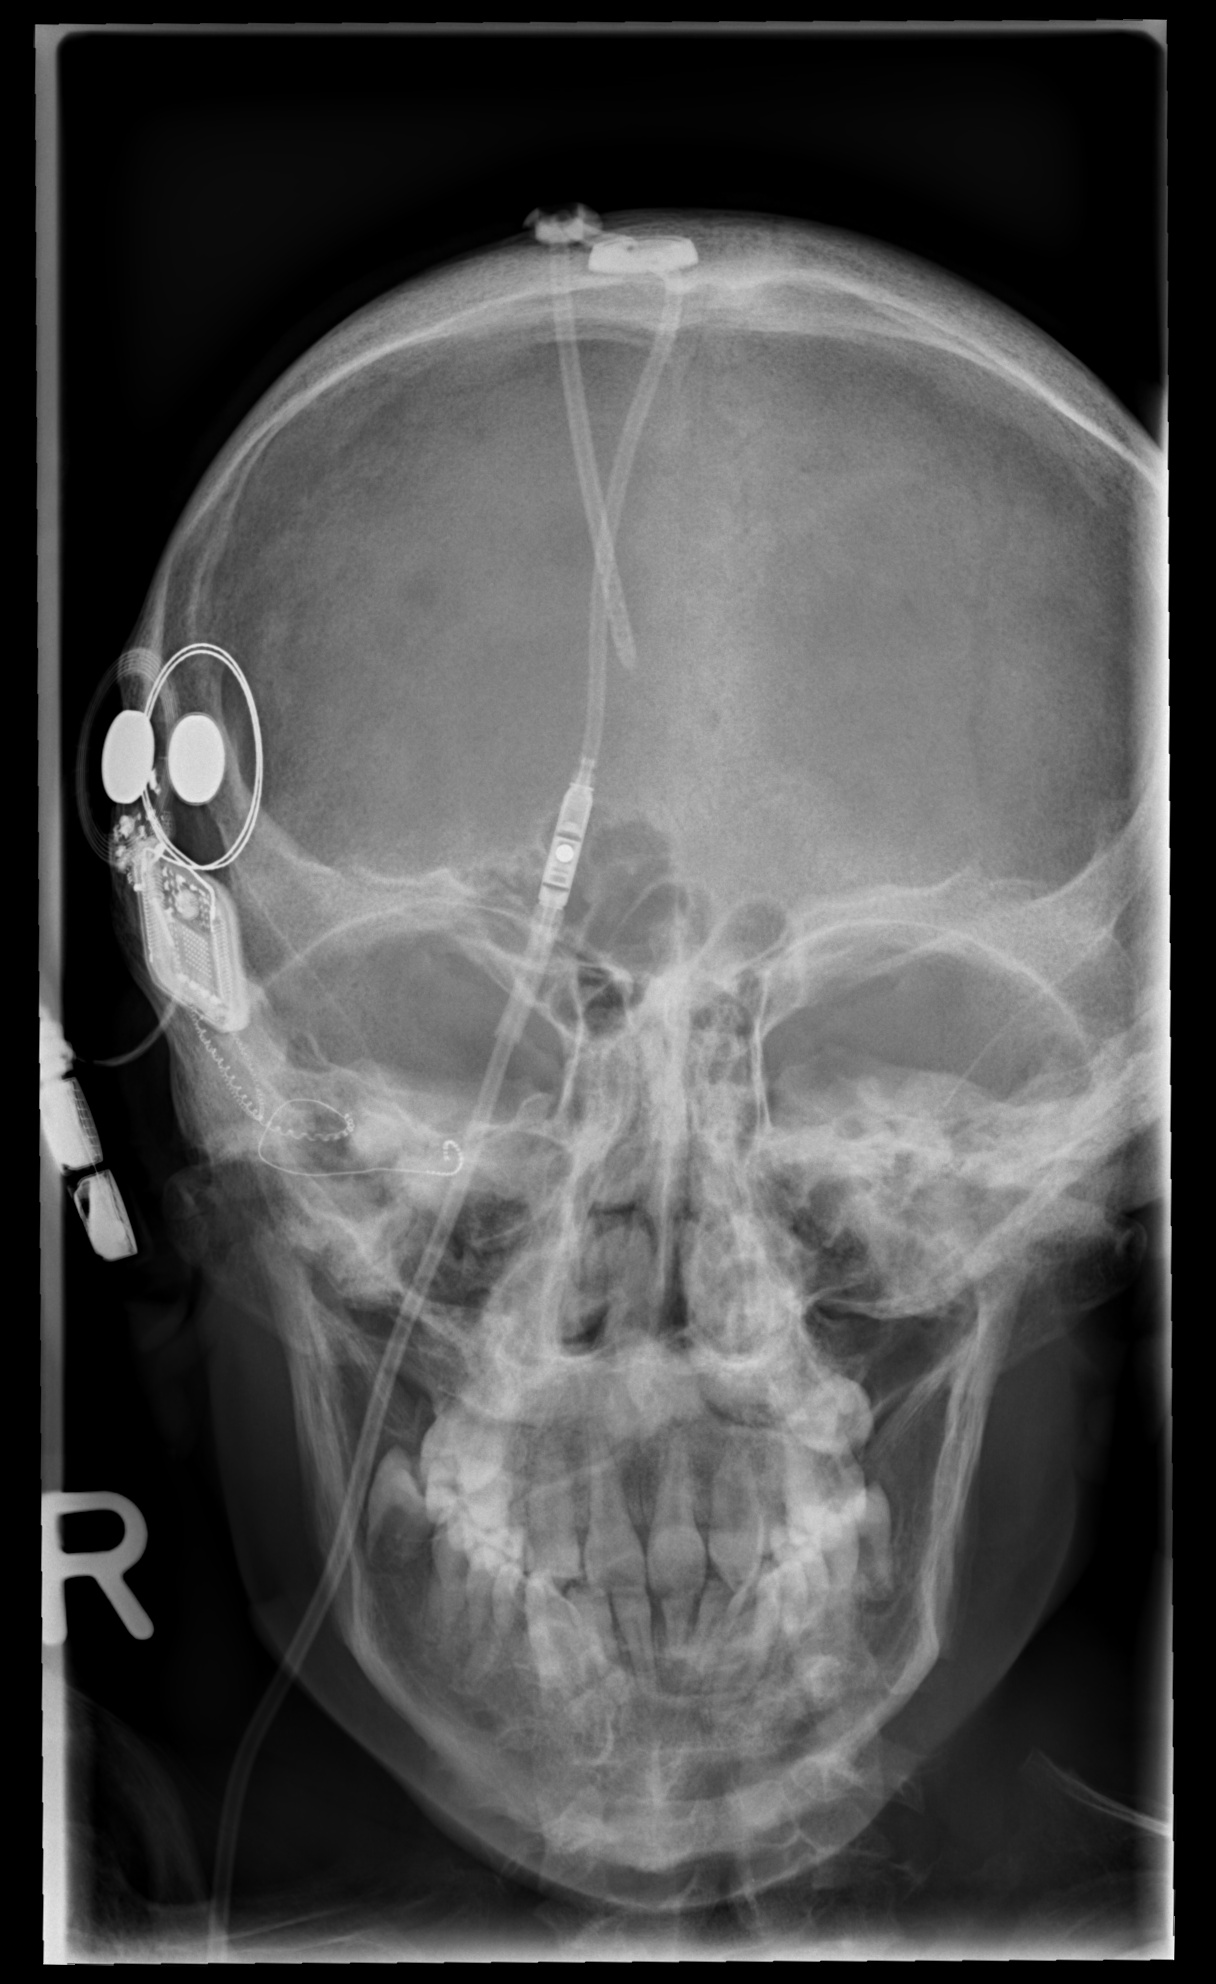proGAV Gravitationseinheit: (534, 772, 597, 915)
